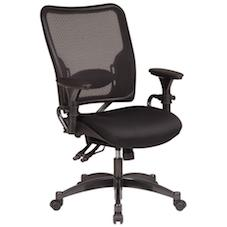chair: (23, 0, 208, 222)
